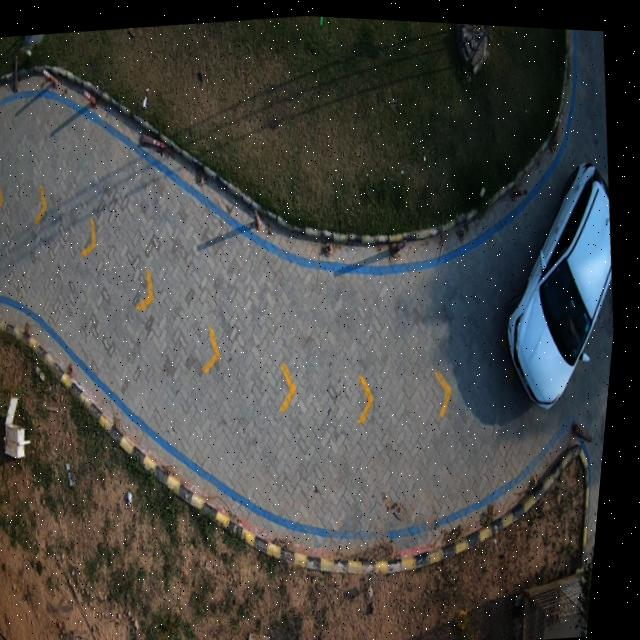car: (513, 156, 616, 402)
